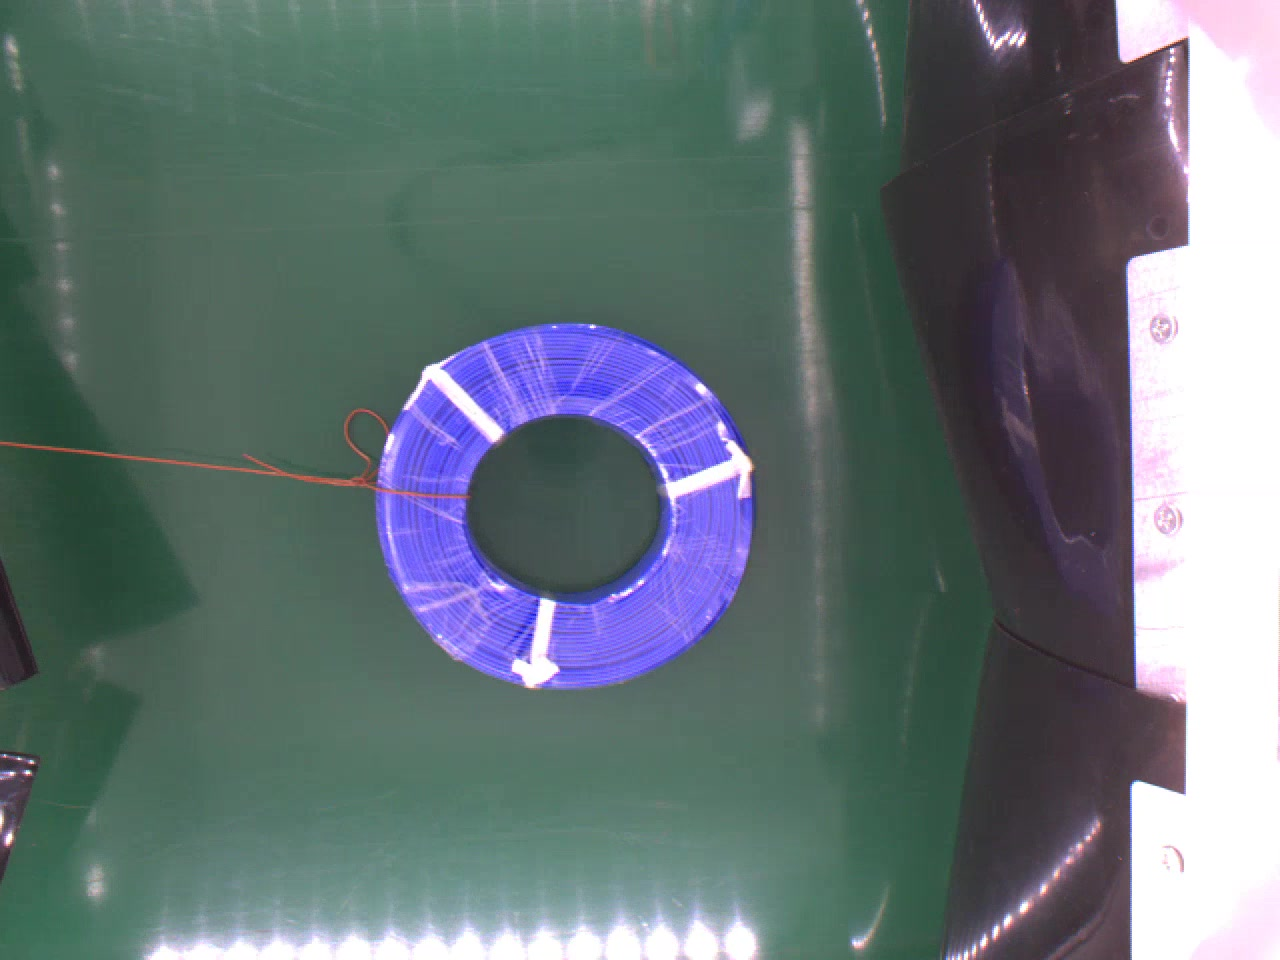blue: (379, 319, 763, 689)
